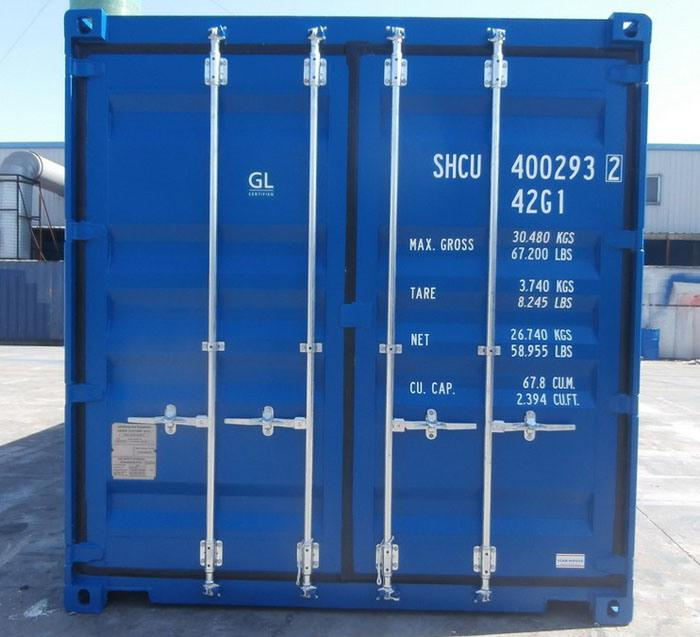ContainerNum: (429, 149, 627, 217)
